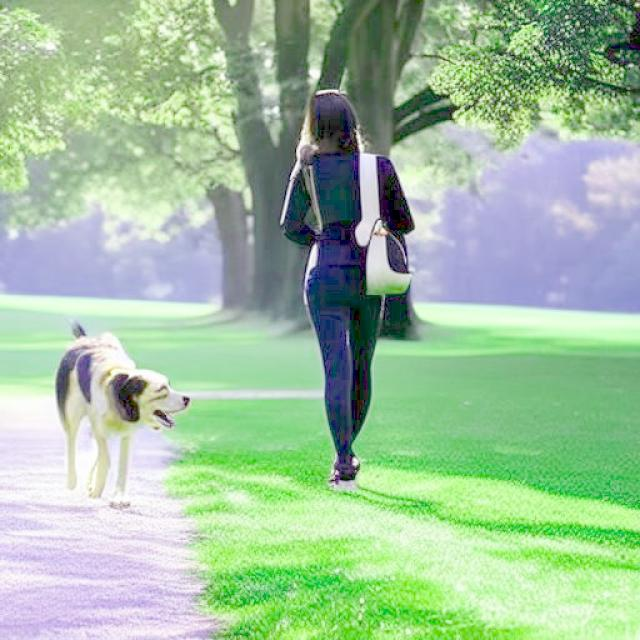Unleashed_Dog: (54, 260, 374, 508)
